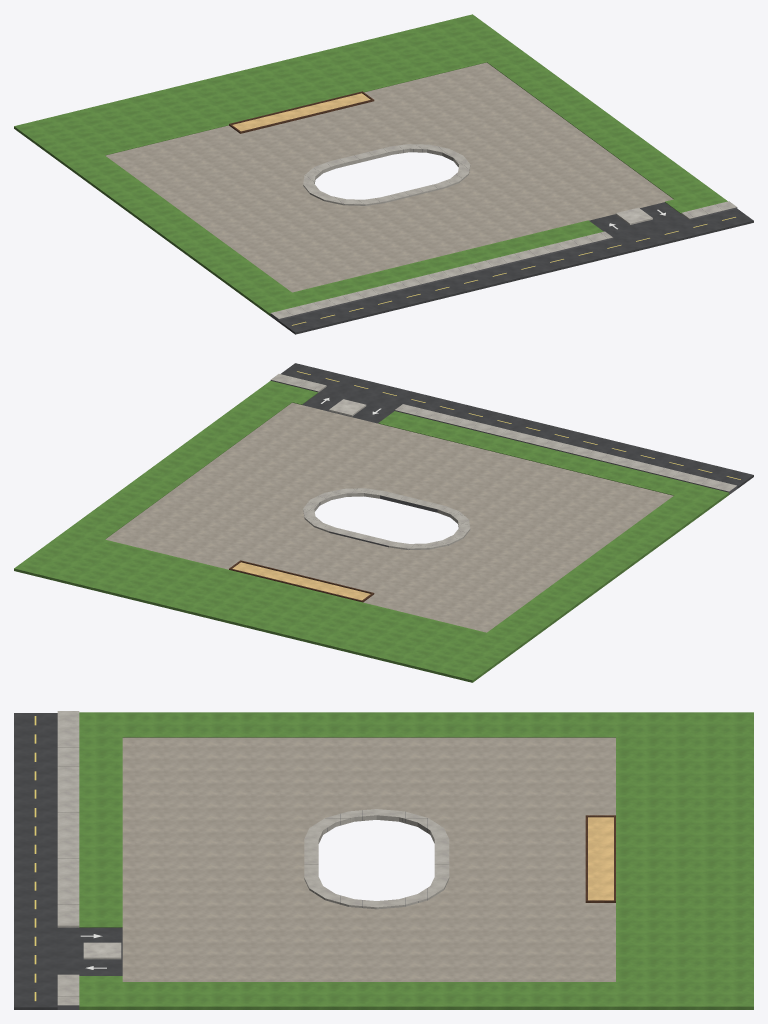
The model's file is site.glb.
The picture shows the model from 3 angles, top to bottom: view 1: azimuth 30°, elevation 25°; view 2: azimuth 150°, elevation 25°; view 3: azimuth 270°, elevation 25°; orthographic projection. The views are drawn at different scales.
Visible parts, largest first — view 1: site_gravel, site_grass, site_asphalt, site_concrete, site_sand, site_dark, site_dkwood; view 2: site_gravel, site_grass, site_asphalt, site_concrete, site_sand, site_dark, site_dkwood; view 3: site_gravel, site_grass, site_asphalt, site_concrete, site_sand, site_curb, site_dkwood.
Part boxes in pixels (x1,y1,x2,y2): site_gravel: [105, 62, 673, 292]; site_grass: [14, 14, 727, 316]; site_asphalt: [278, 202, 753, 334]; site_concrete: [271, 144, 736, 318]; site_sand: [232, 93, 370, 131]; site_dark: [270, 149, 737, 321]; site_dkwood: [229, 91, 374, 133]; site_gravel: [105, 402, 673, 632]; site_grass: [14, 380, 729, 682]; site_asphalt: [281, 363, 753, 488]; site_concrete: [271, 374, 736, 550]; site_sand: [232, 562, 370, 600]; site_dark: [270, 380, 737, 549]; site_dkwood: [229, 560, 374, 602]; site_gravel: [122, 737, 615, 981]; site_grass: [79, 712, 753, 1009]; site_asphalt: [14, 713, 122, 1009]; site_concrete: [57, 711, 449, 1005]; site_sand: [588, 817, 613, 900]; site_curb: [83, 942, 121, 959]; site_dkwood: [585, 815, 615, 902].
Size of the model in its own units: 48 by 0.35 by 51.
Materials: 10 (7 with a texture image).
